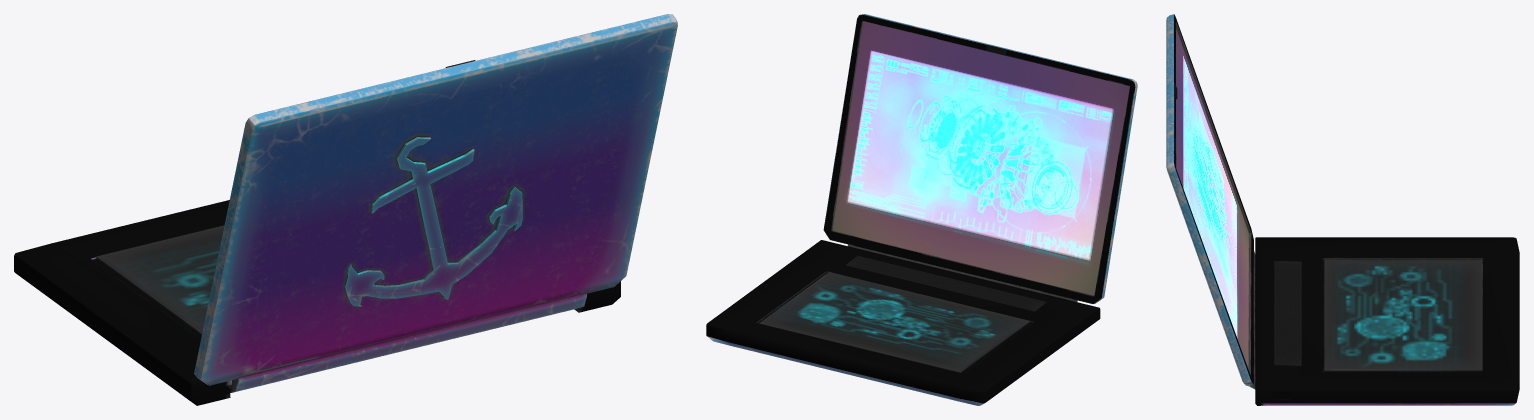
Rendered from FUT0410004.fbx.
3 views of the same model, side by side, from view 1: azimuth 30°, elevation 25°; view 2: azimuth 150°, elevation 25°; view 3: azimuth 270°, elevation 25° (orthographic). The views are drawn at different scales.
Visible parts, largest first — view 1: smFUT0410004; view 2: smFUT0410004; view 3: smFUT0410004.
Boxes of the visible parts, <box> form: smFUT0410004: <box>14,14,677,405</box>; smFUT0410004: <box>706,14,1137,405</box>; smFUT0410004: <box>1166,14,1519,405</box>.
Bounding box in the file's own units: 79.09 × 58.59 × 76.92.
1 material, 1 textured.
